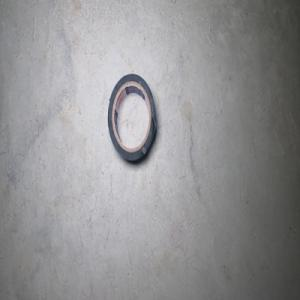Tape: (107, 73, 156, 163)
